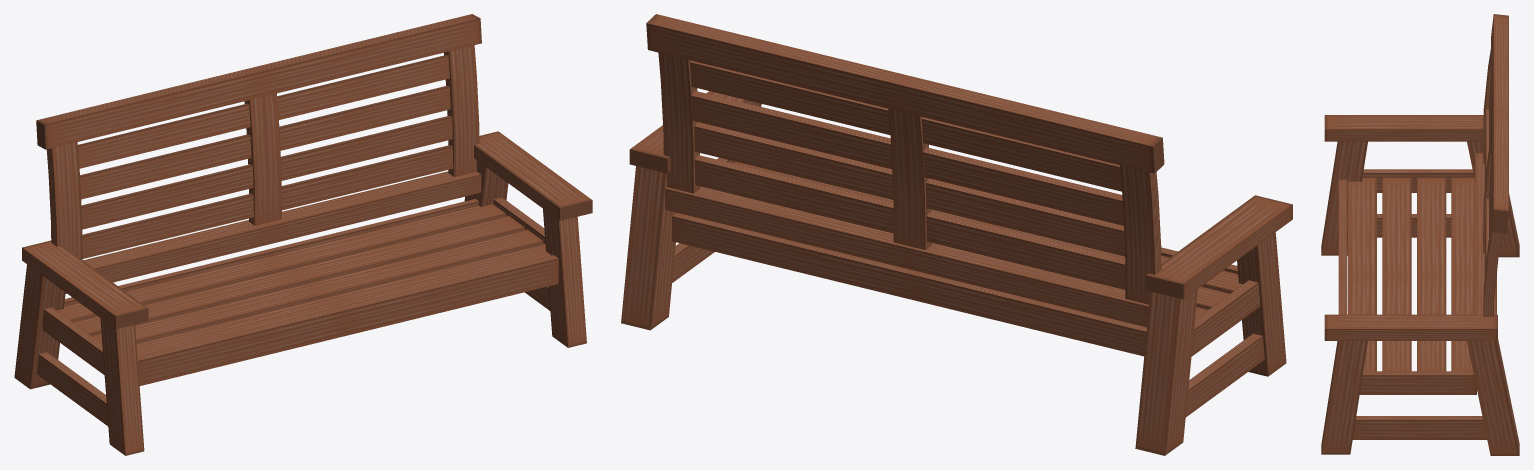
File: Bin (1).fbx
3 views of the same model, side by side, from view 1: azimuth 30°, elevation 25°; view 2: azimuth 150°, elevation 25°; view 3: azimuth 270°, elevation 25° (orthographic). The views are drawn at different scales.
Parts seen in each view (by area): view 1: Bin (1); view 2: Bin (1); view 3: Bin (1).
Boxes of the visible parts, x1,y1,x2,y2 form: Bin (1): [14, 14, 592, 455]; Bin (1): [621, 14, 1292, 455]; Bin (1): [1321, 14, 1519, 455].
Size of the model in its own units: 1.17 by 0.6075 by 0.4577.
